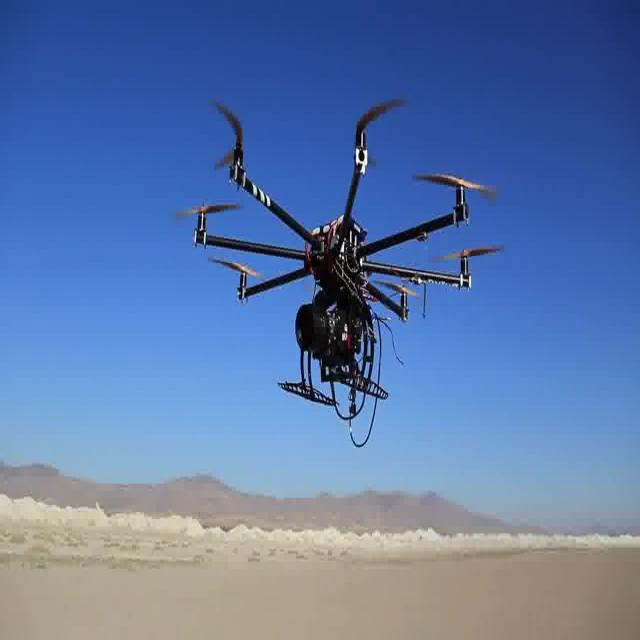drone: (153, 58, 512, 448)
